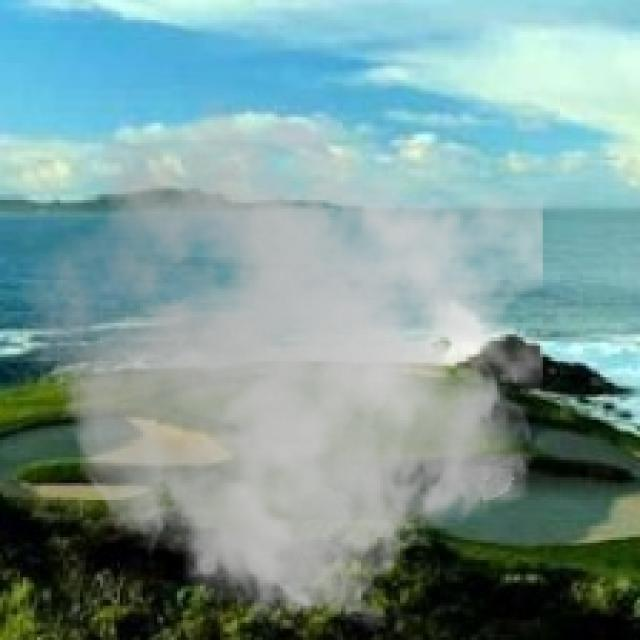smoke: (20, 95, 543, 634)
